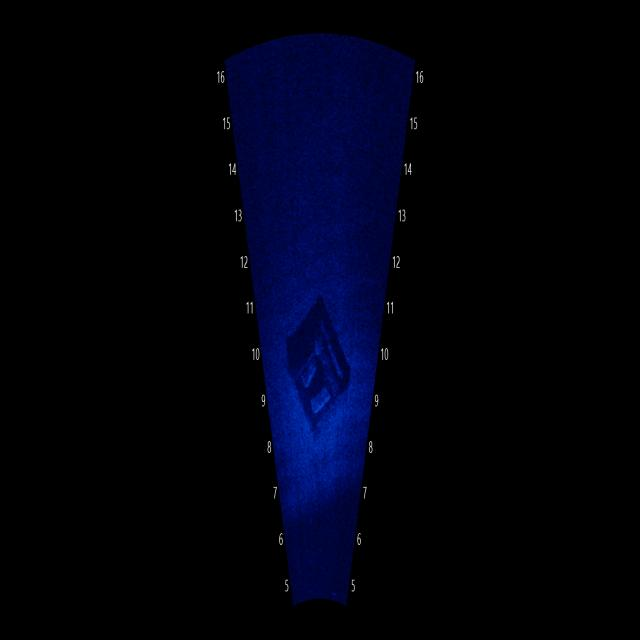square: (278, 286, 357, 447)
